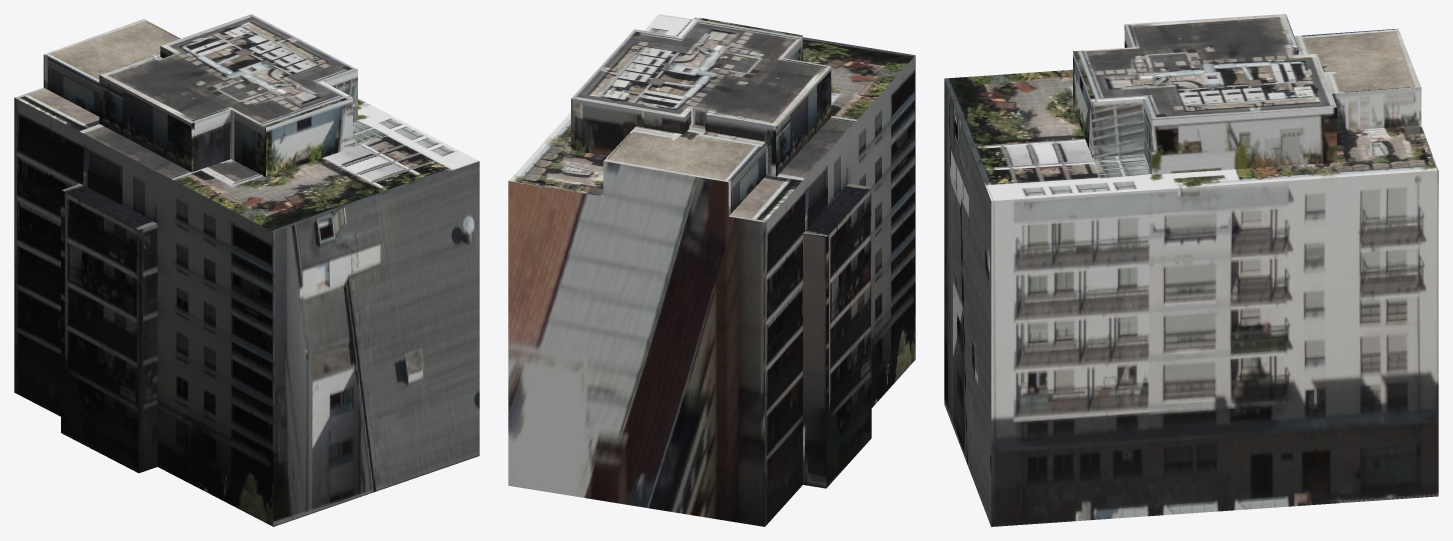
3 views of the same model, side by side, from view 1: azimuth 30°, elevation 25°; view 2: azimuth 150°, elevation 25°; view 3: azimuth 270°, elevation 25° (orthographic). The views are drawn at different scales.
Visible parts, largest first — view 1: Z_UP; view 2: Z_UP; view 3: Z_UP.
Boxes of the visible parts, x1,y1,x2,y2 form: Z_UP: (14, 14, 479, 526); Z_UP: (508, 14, 915, 526); Z_UP: (944, 14, 1438, 526).
Size of the model in its own units: 19.37 by 22 by 25.83.
Materials: 2 (1 with a texture image).
